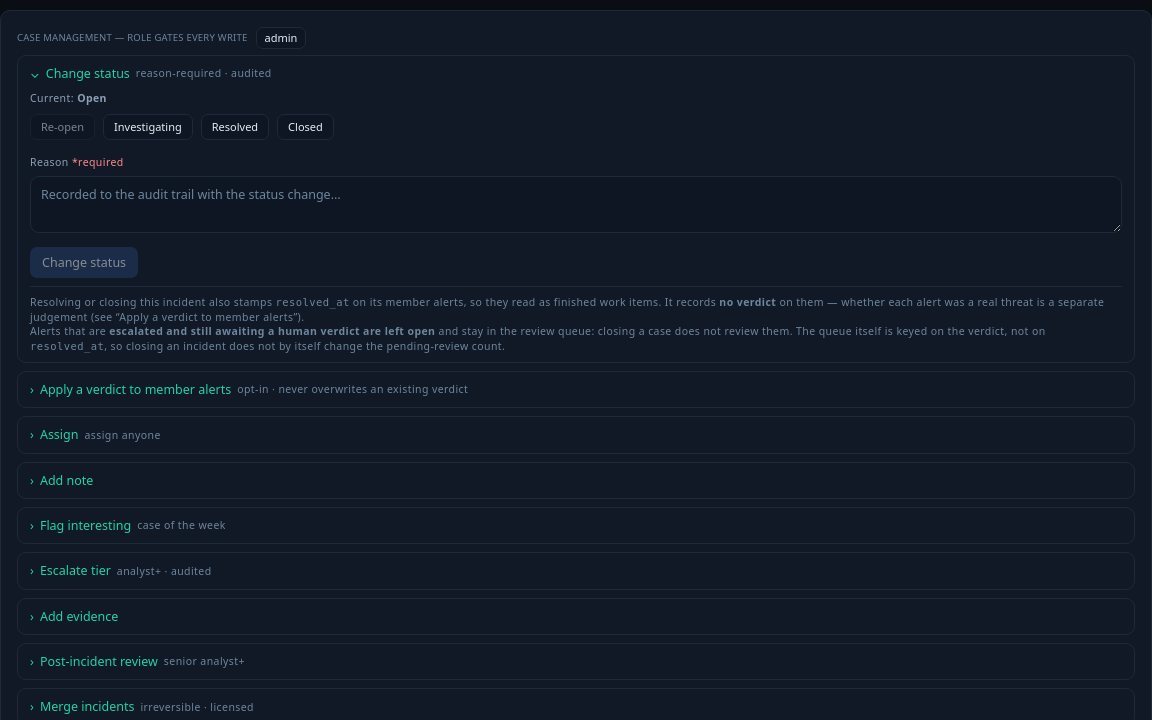
Scenario: WO-H85 verdict propagation control › reports 'nothing applied' as a FAILURE, not a green tick
Step 1. Click the text "Apply a verdict to member alerts" → [136, 390], box [40, 380, 231, 399]
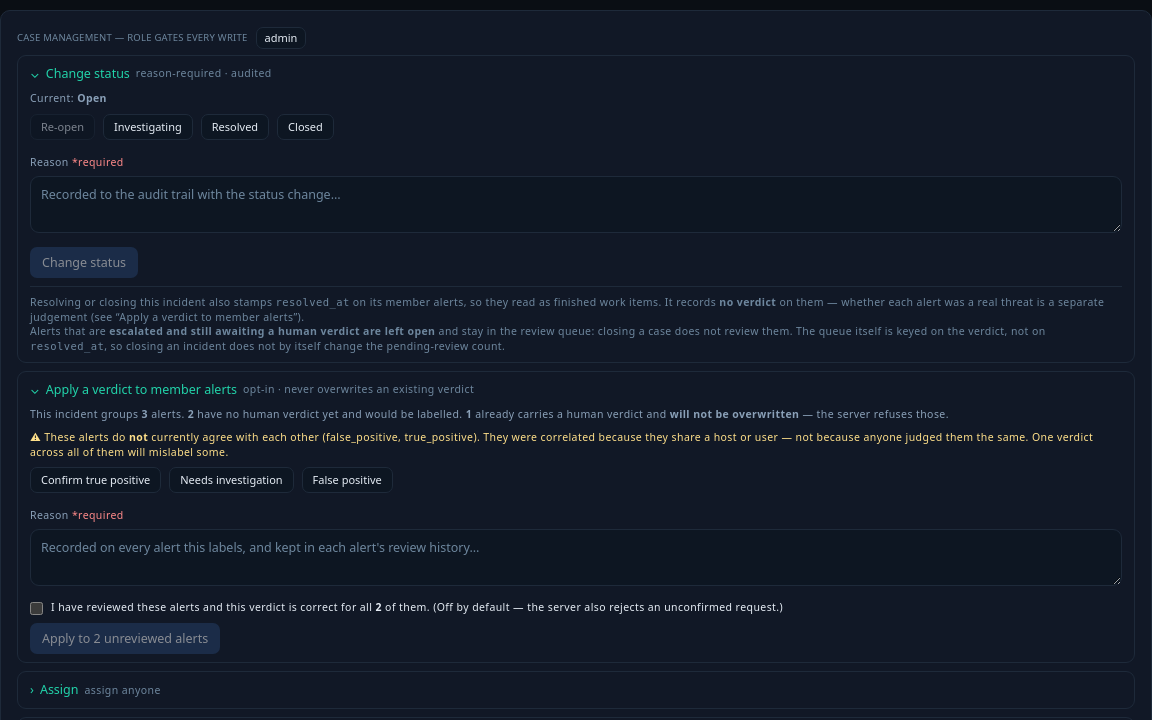
Step 2. Click the radio button labelled "False positive" → [347, 480], box [302, 467, 393, 493]
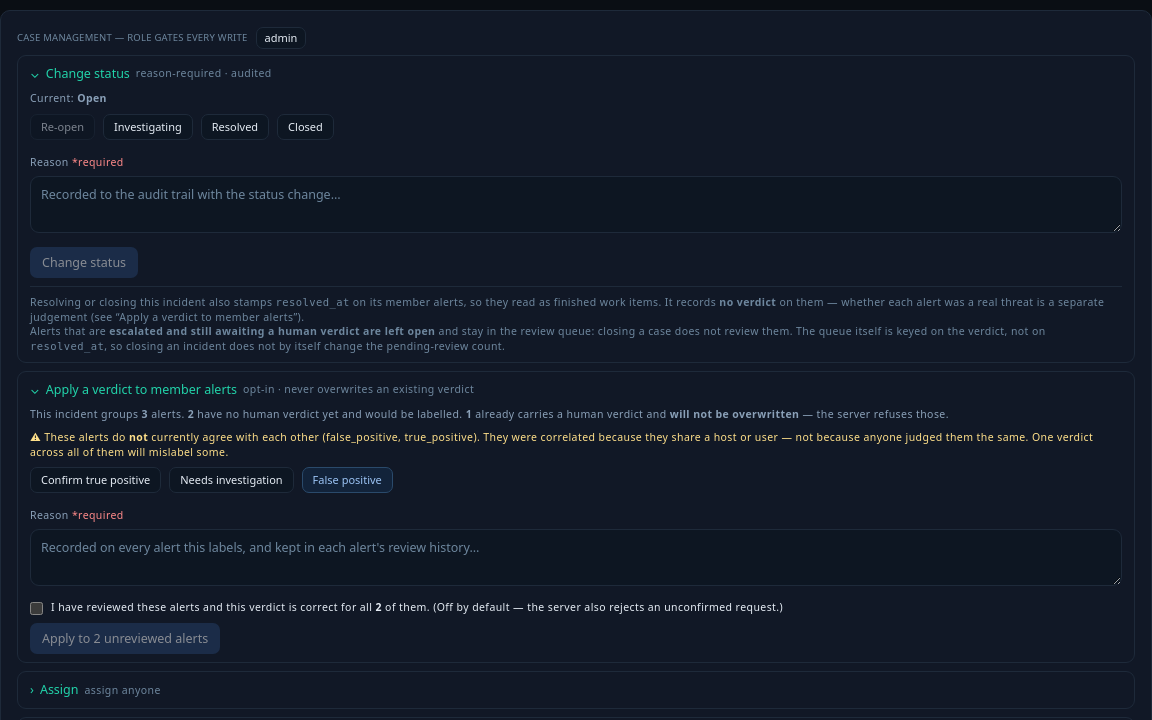
Step 3. Replace the text in the text box with placeholder "Recorded on every alert" below "⚠ These alerts do" with "noise" → [576, 558], box [30, 529, 1122, 586]
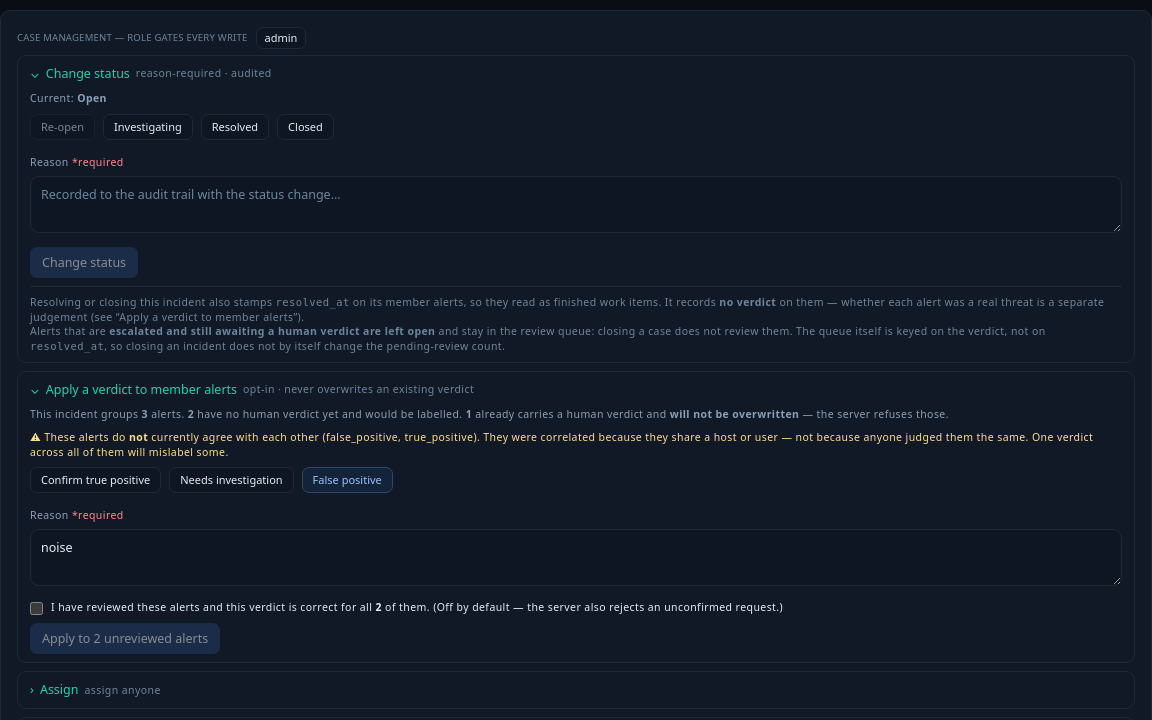
Step 4. Click the checkbox → [36, 608], box [30, 602, 43, 615]
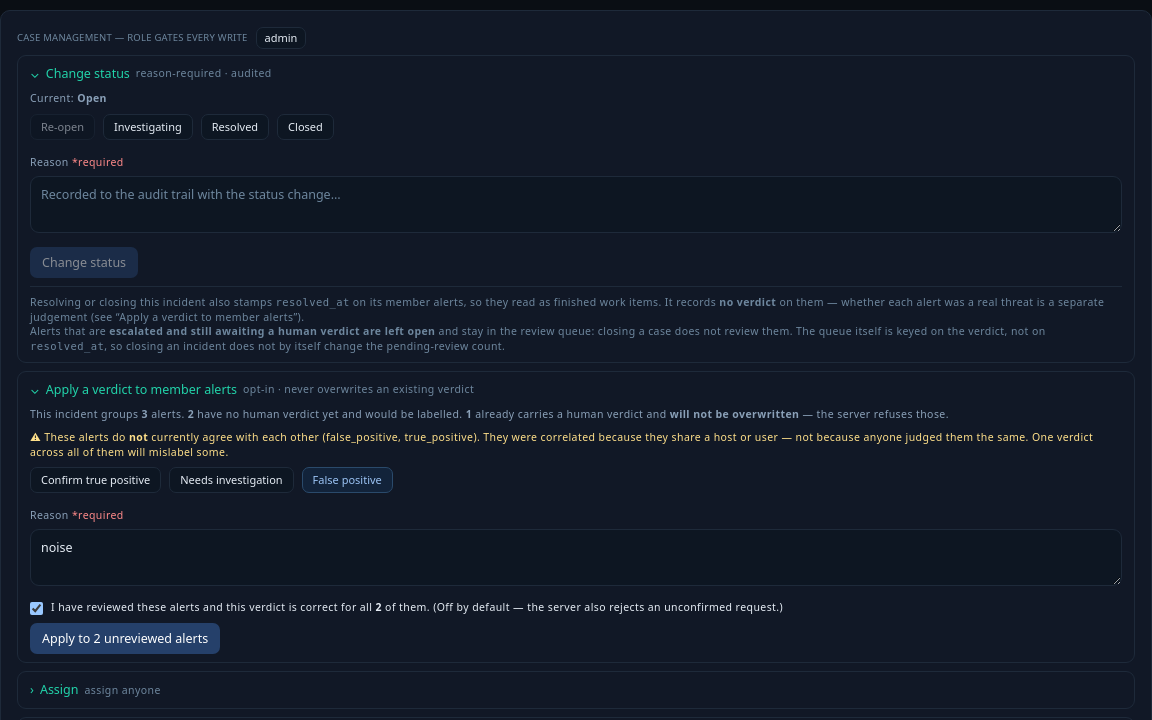
Step 5. Click the button "Apply to 2 unreviewed alerts" → [125, 639], box [30, 623, 220, 654]
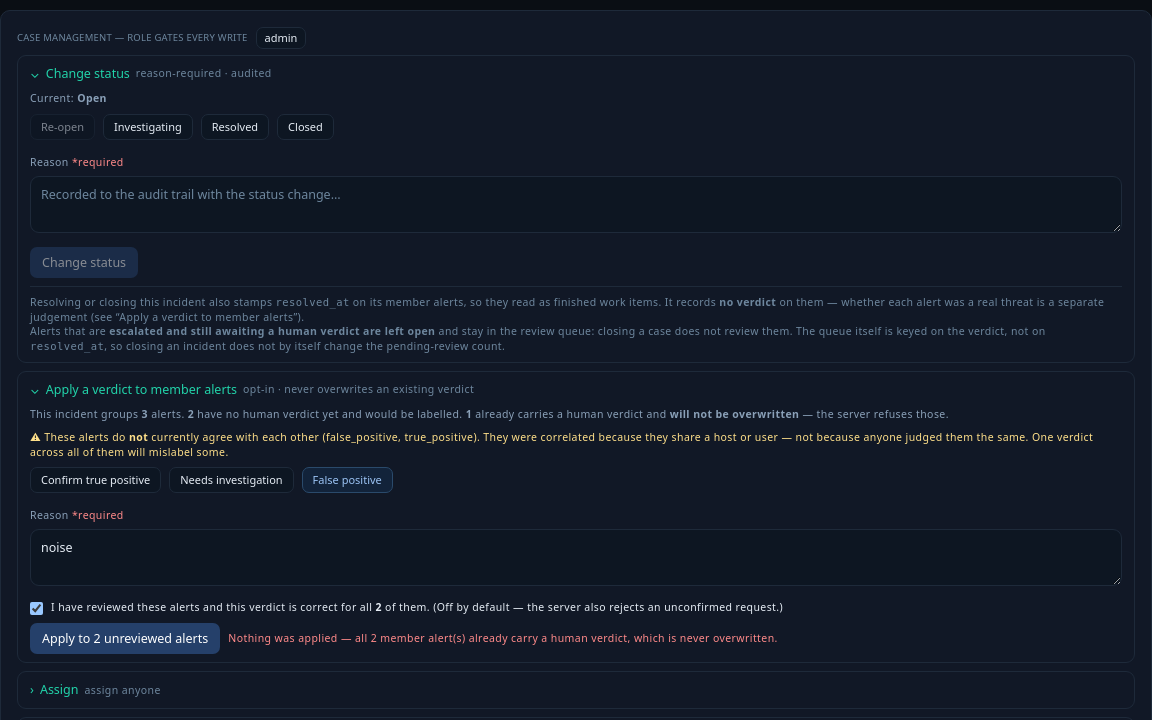
Check: the text "never overwritten" is shown, box [228, 631, 778, 645]
